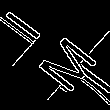M_NW: (19, 21, 91, 89)
